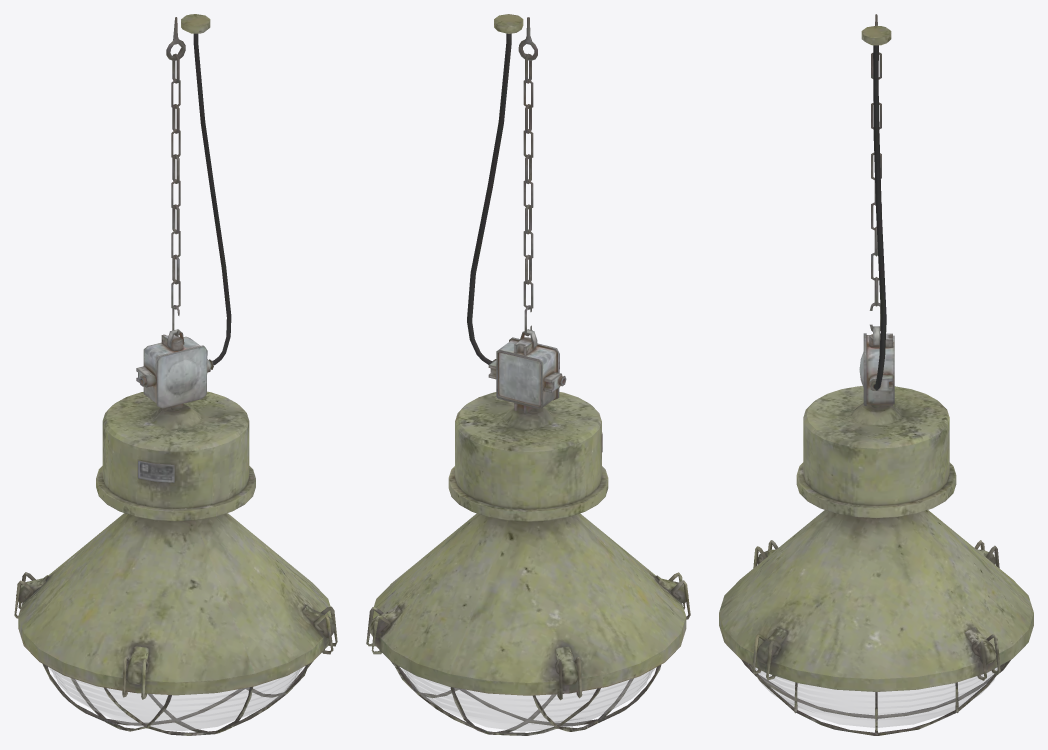
File: hanging-industrial-lamp.glb
The picture shows the model from 3 angles, left to right: view 1: azimuth 30°, elevation 25°; view 2: azimuth 150°, elevation 25°; view 3: azimuth 270°, elevation 25°; orthographic projection.
Parts seen in each view (by area): view 1: hanging_industrial_lamp; view 2: hanging_industrial_lamp; view 3: hanging_industrial_lamp.
Part boxes in pixels (x1,y1,x2,y2): hanging_industrial_lamp: (14,14,337,735); hanging_industrial_lamp: (366,14,690,735); hanging_industrial_lamp: (719,14,1033,735).
Bounding box in the file's own units: 0.5497 × 1.36 × 0.5497.
Materials: 2 (1 with a texture image).
